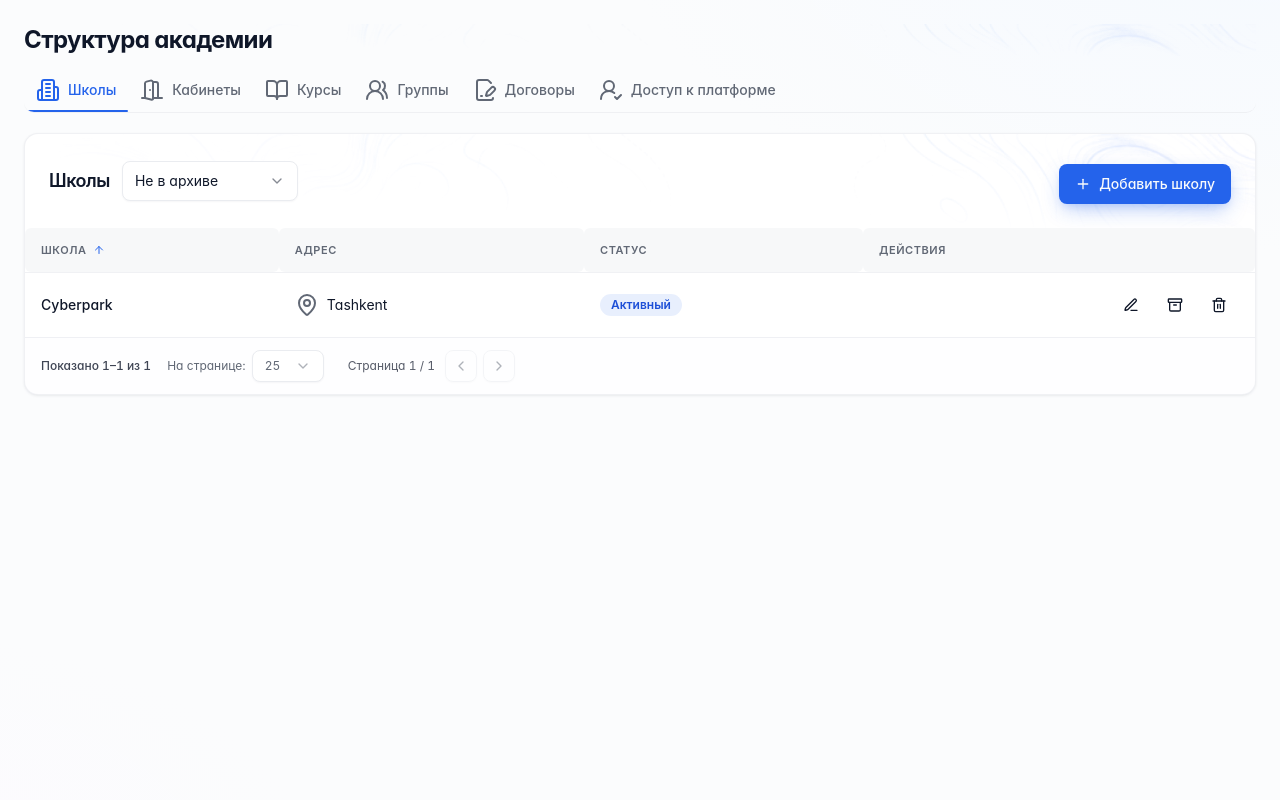
it: school timezone dropdown › navigates distinct catalog choices with arrows, Home and End before committing with Enter
This screenshot has width=1280, height=800.
Expected: the text "Cyberpark" is shown, [41,296,113,312]
Click the button named "Редактировать" at coordinates (1131, 304), box [1111,284,1151,324]
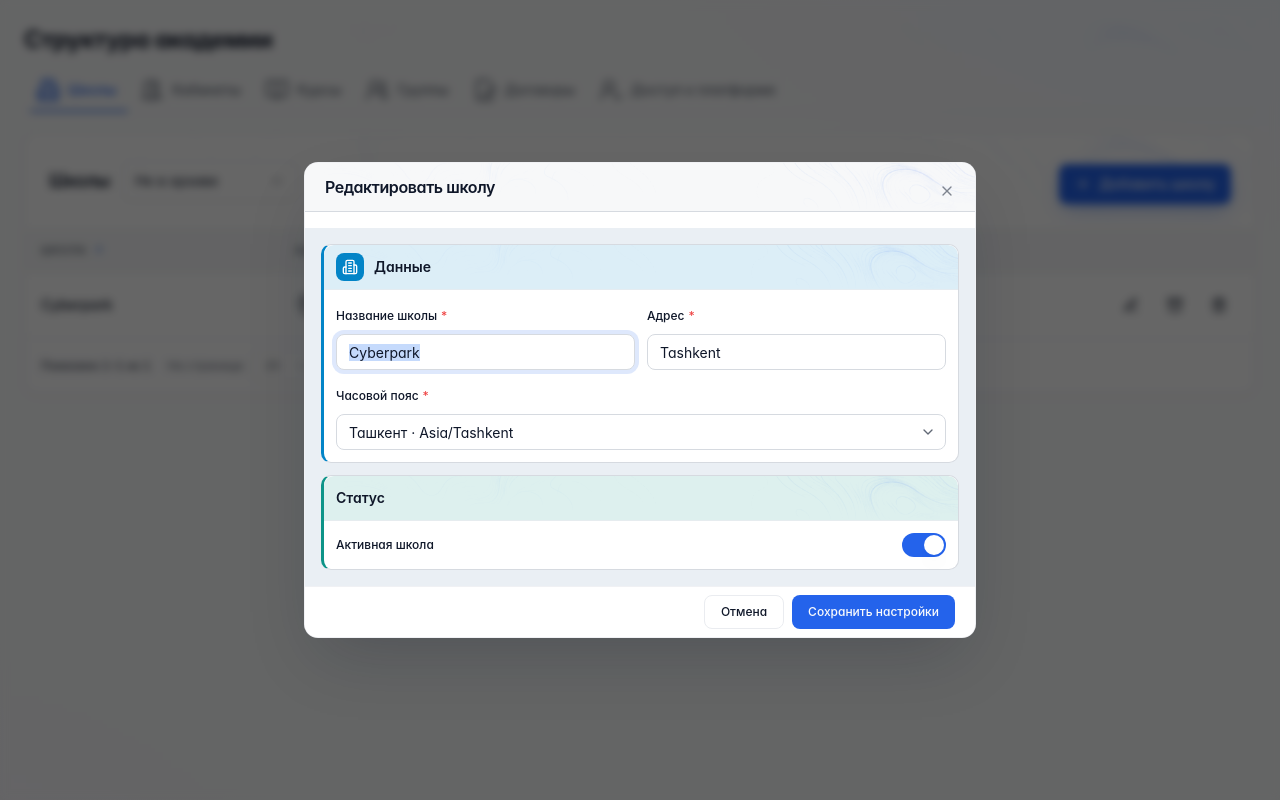
Click the dropdown labelled "Часовой пояс" at coordinates (641, 432), box [336,414,946,450]
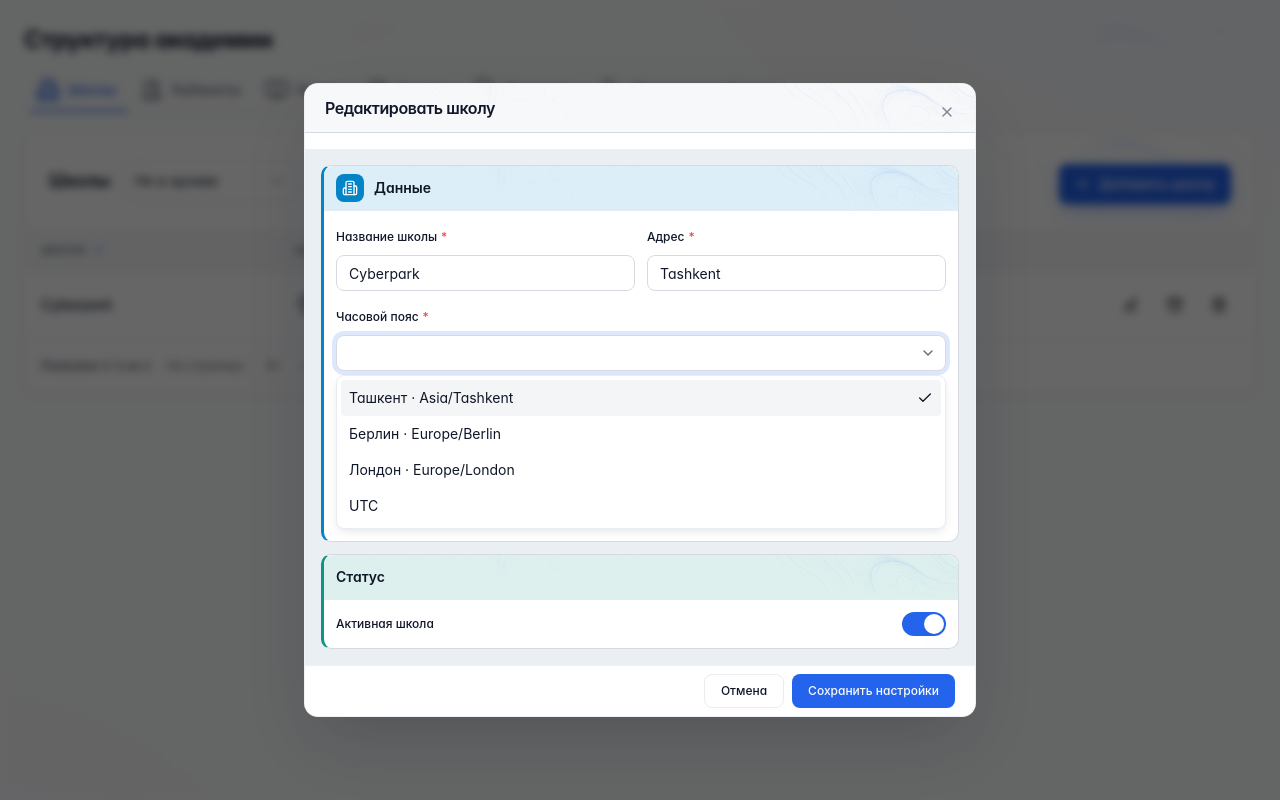
Press Home Arrowdown
Press Arrowup
Press End
Expected: the option "UTC" is shown, [341,488,941,524]
Press Home
Press End Enter
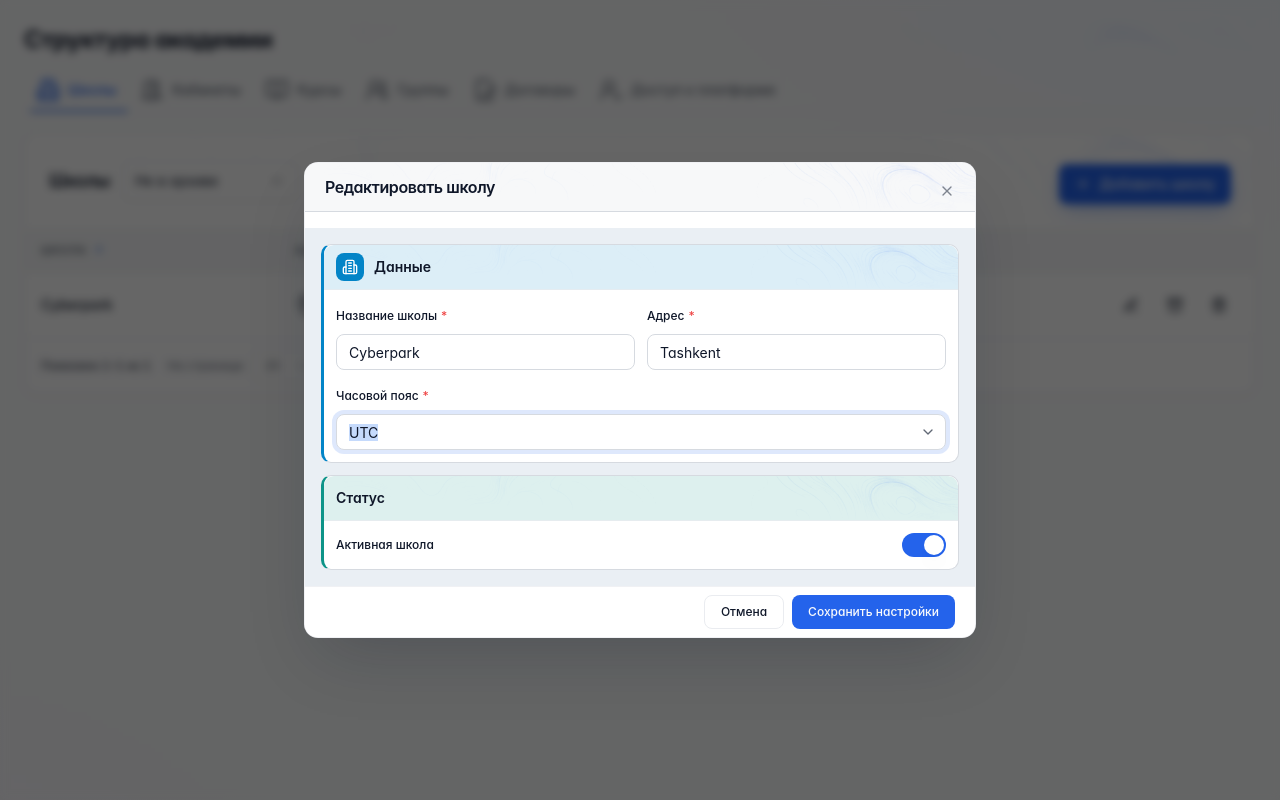
Expected: the dropdown labelled "Часовой пояс" holds "UTC", [336,414,946,450]
